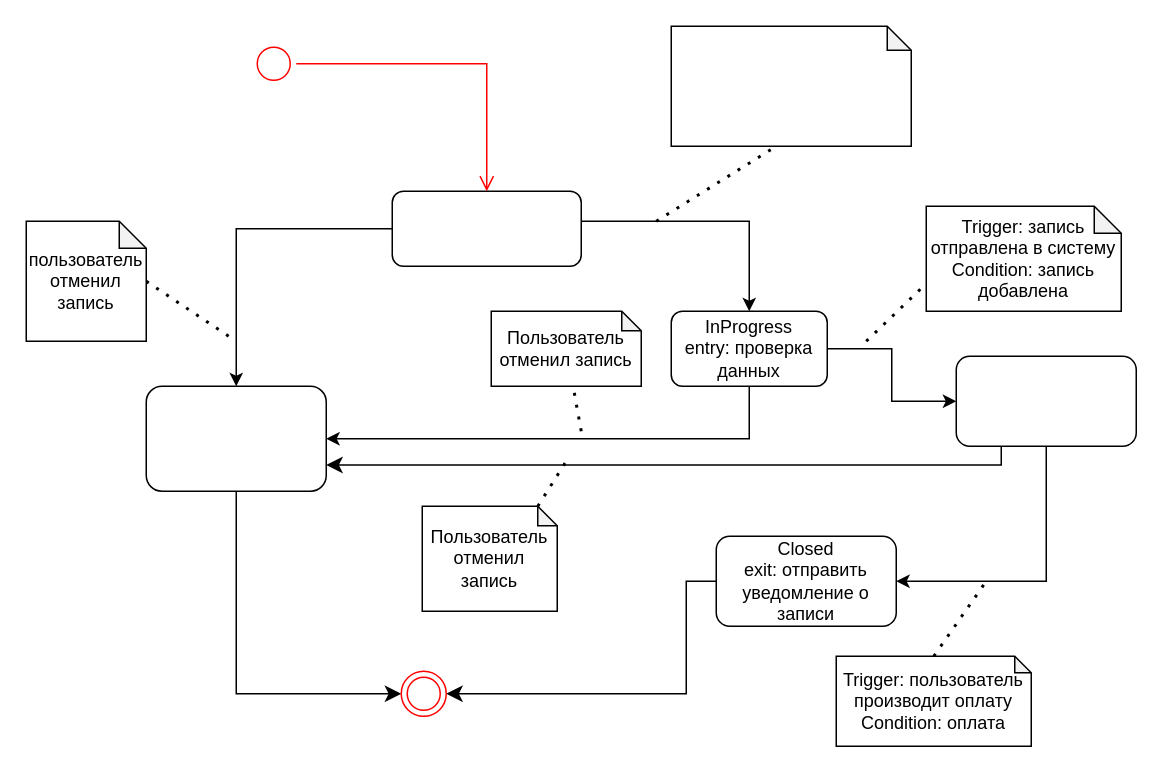
This 1163x773 diagram has some shape labels left out. Here are the shapes that lost their labels. From the top down, the box of each, then its label:
(670, 25, 911, 146): Trigger: клиент подтверждает данные записи Condition: запись подтверждена
(391, 190, 581, 266): Created entry:пользователь вводит данные
(955, 355, 1136, 446): entry: установить номер записи
(145, 385, 326, 491): Canceled entry: отменить запись
